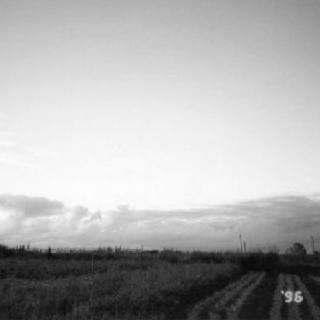Stratus: (0, 183, 320, 240)
